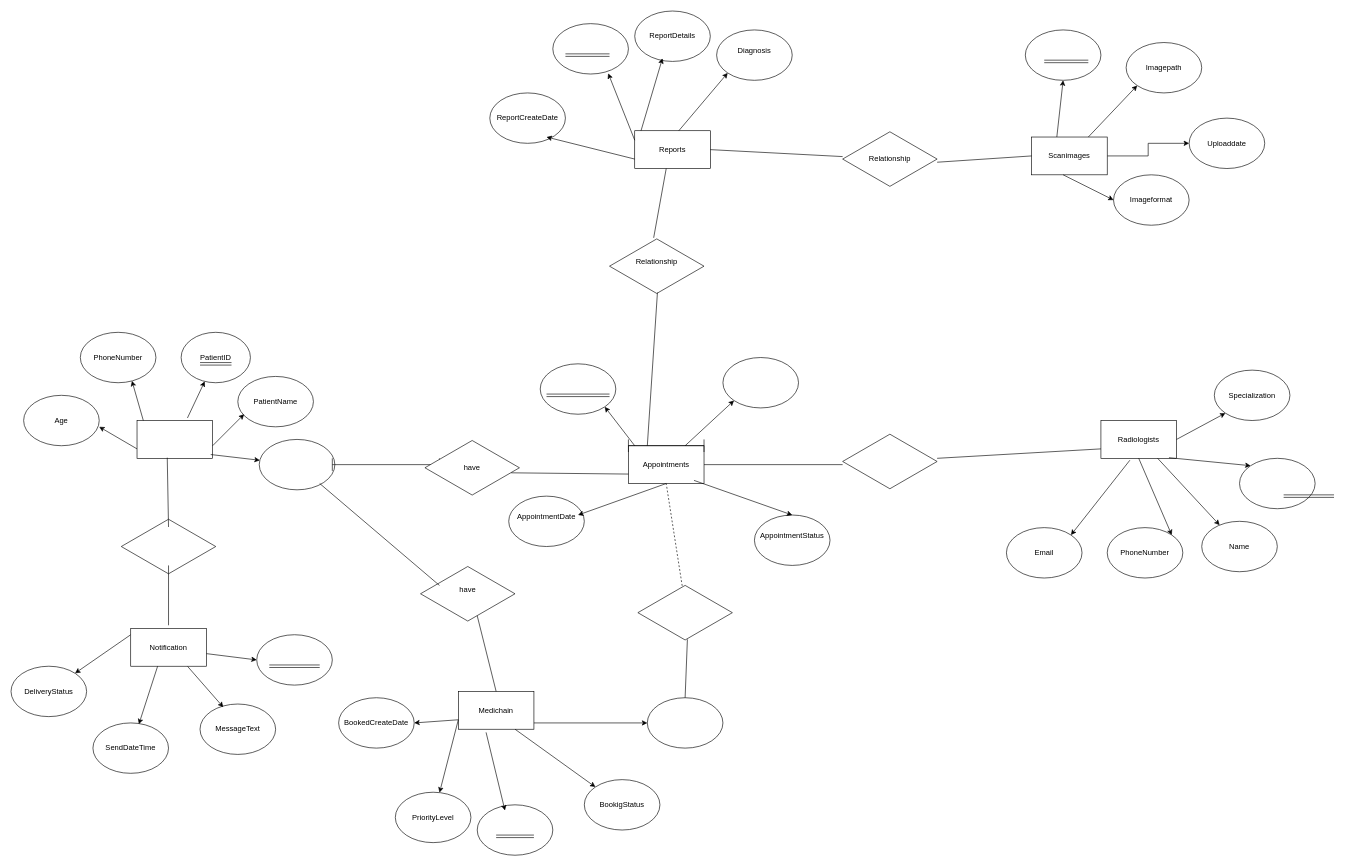
This 1345x866 diagram has some shape labels left out. Each missing label, with the centre of its shape:
AppointmentID: the point at 578,388
BookingID: the point at 515,829
Connect: the point at 684,612
Gender: the point at 297,464
ImageID: the point at 1063,54
include: the point at 889,461
NotificationID: the point at 294,659
Patients: the point at 174,439
RadiologistID: the point at 1277,483
ReportID: the point at 590,48
Request: the point at 168,546
ScanType: the point at 760,382
SuggestedData: the point at 685,722
